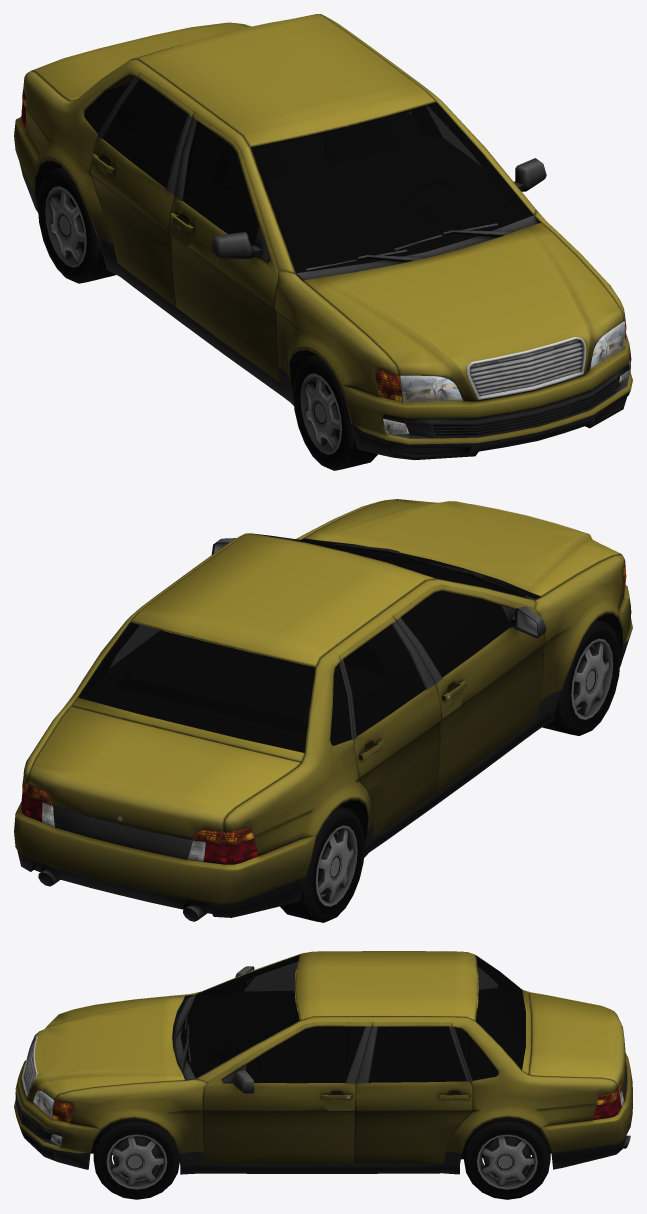
The model's file is veicolo_berlina.glb.
The picture shows the model from 3 angles, top to bottom: view 1: azimuth 30°, elevation 25°; view 2: azimuth 150°, elevation 25°; view 3: azimuth 270°, elevation 25°; orthographic projection. The views are drawn at different scales.
Parts seen in each view (by area): view 1: sb_modello; view 2: sb_modello; view 3: sb_modello.
Boxes of the visible parts, x1,y1,x2,y2 form: sb_modello: [14, 14, 632, 470]; sb_modello: [14, 499, 632, 922]; sb_modello: [14, 951, 632, 1199].
Size of the model in its own units: 1.94 by 1.34 by 4.36.
Materials: 4 (3 with a texture image).
